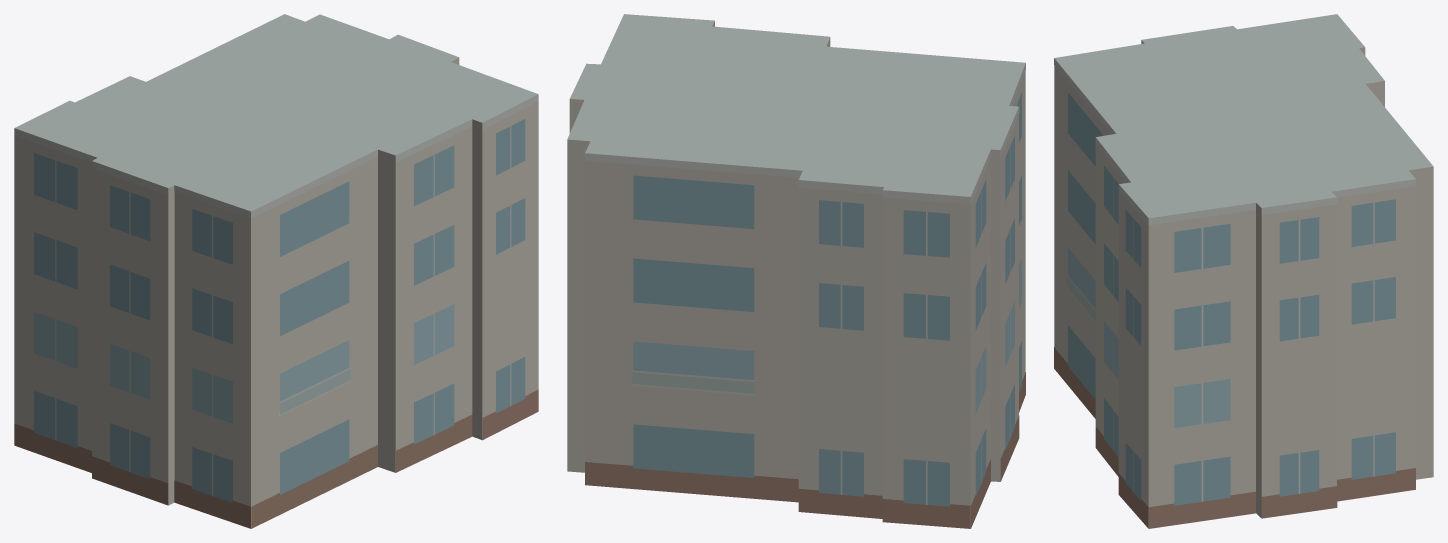
File: survey-upis-33030349.glb
3 renders of one model, left to right at view 1: azimuth 30°, elevation 25°; view 2: azimuth 150°, elevation 25°; view 3: azimuth 270°, elevation 25°, orthographic. The views are drawn at different scales.
Visible parts, largest first — view 1: survey-upis-33030349.tmp; view 2: survey-upis-33030349.tmp; view 3: survey-upis-33030349.tmp.
Part boxes in pixels (<box>): survey-upis-33030349.tmp: <box>14,14,538,528</box>; survey-upis-33030349.tmp: <box>567,14,1025,528</box>; survey-upis-33030349.tmp: <box>1054,14,1433,528</box>.
Bounding box in the file's own units: 15.39 × 10.9 × 12.09.
